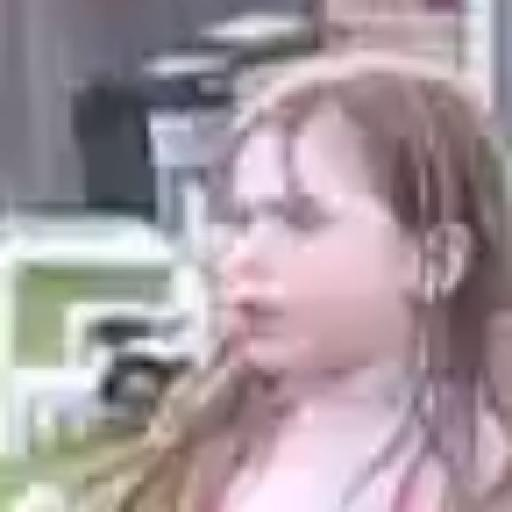Autism: (144, 30, 502, 466)
